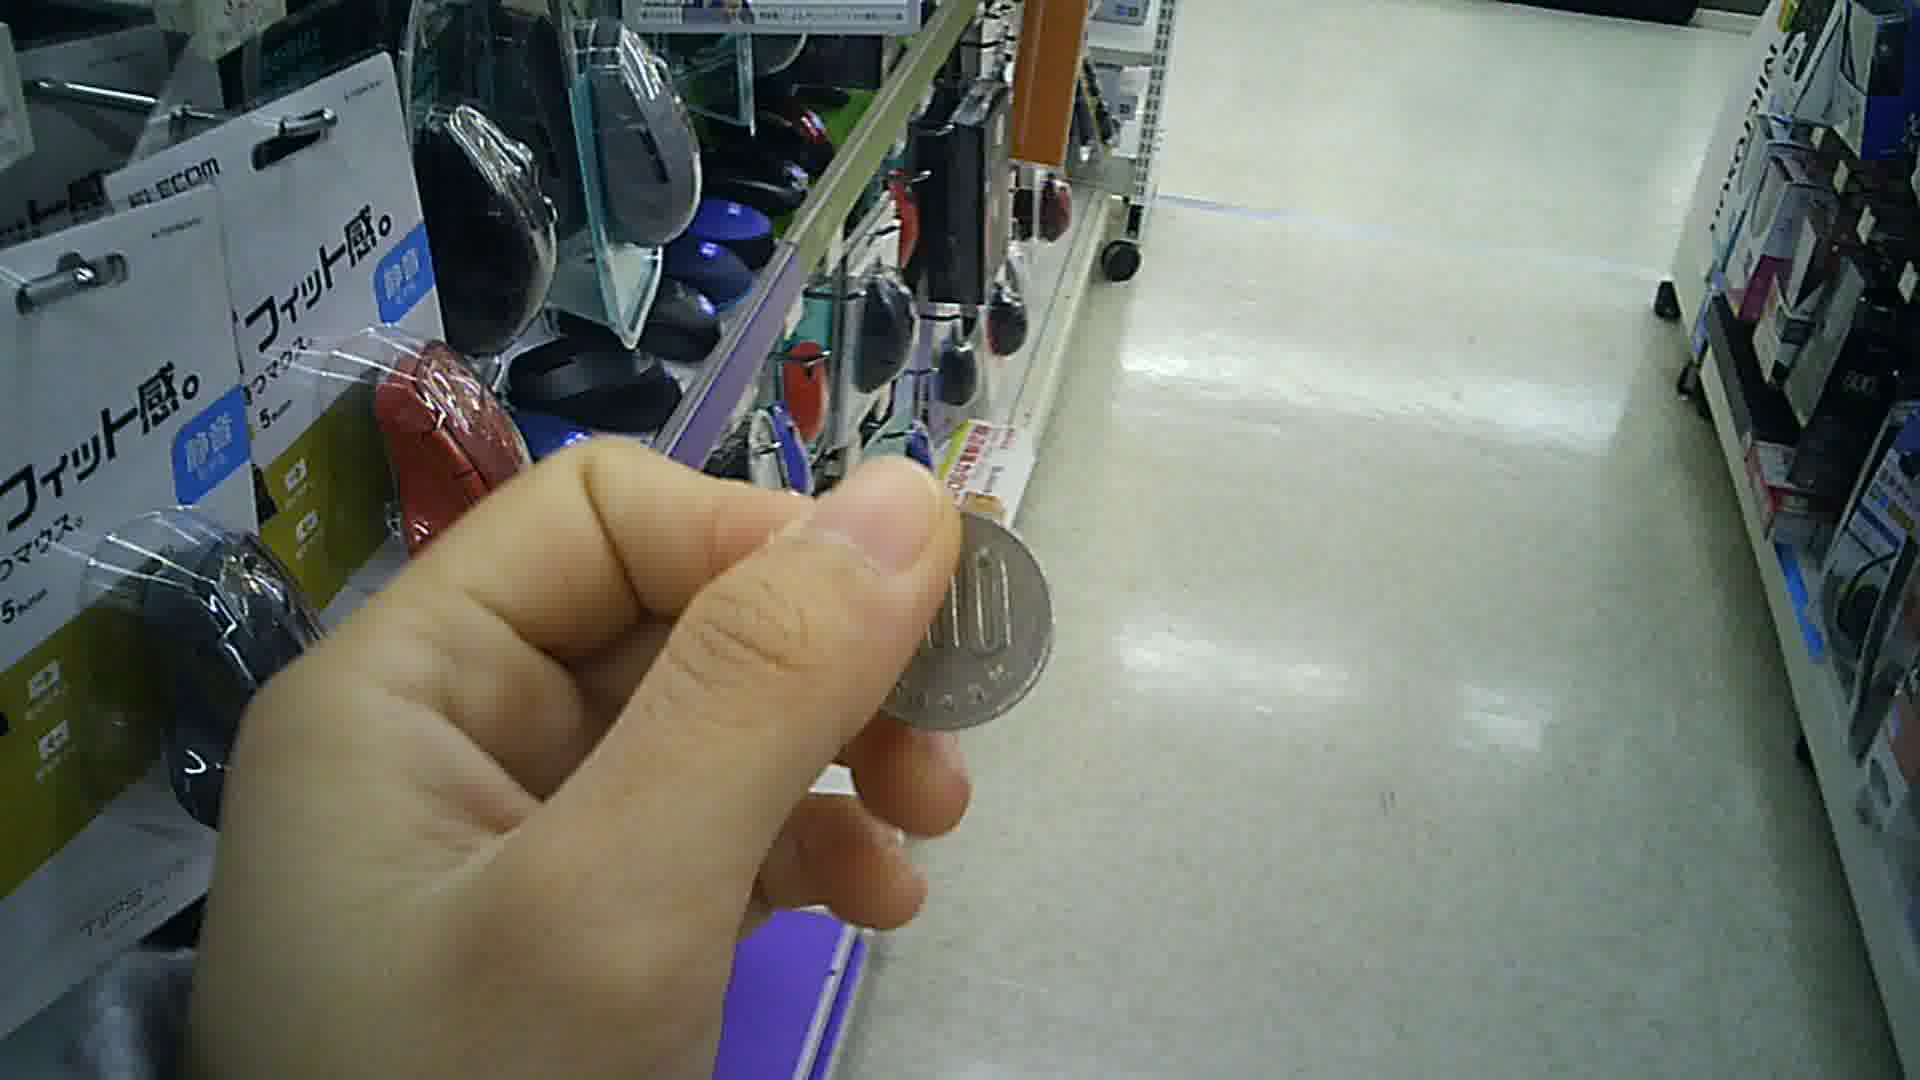100 Yen: (837, 501, 1064, 728)
